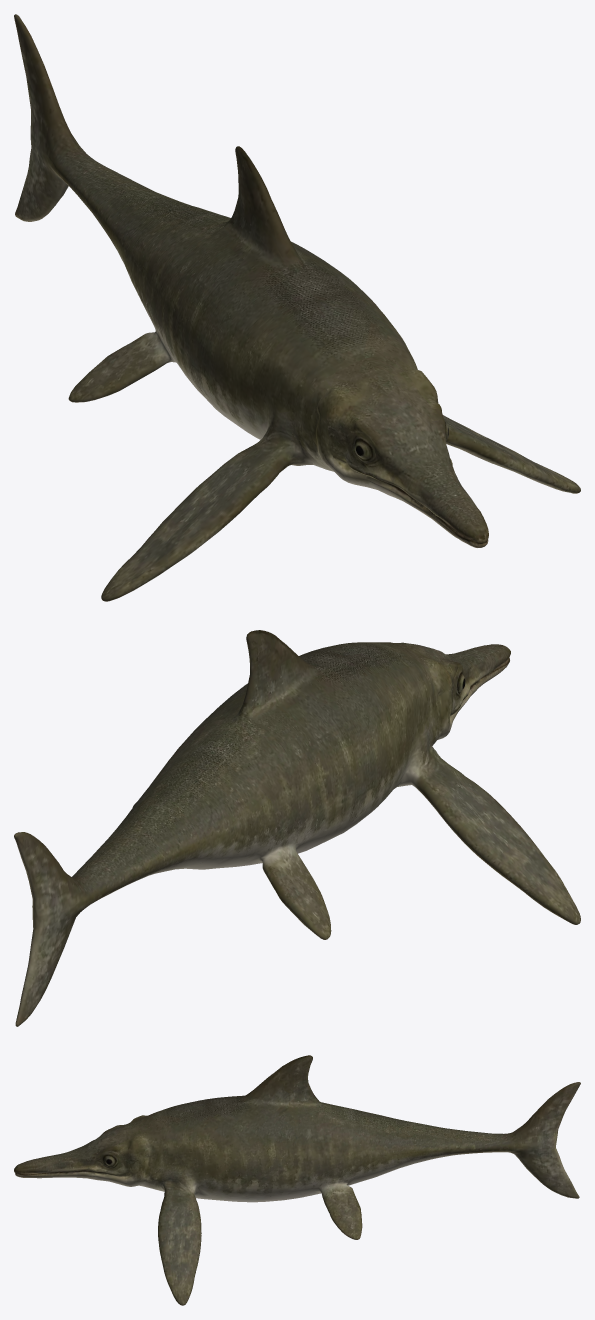
The model's file is ichthyosaurus.glb.
3 renders of one model, top to bottom at view 1: azimuth 30°, elevation 25°; view 2: azimuth 150°, elevation 25°; view 3: azimuth 270°, elevation 25°, orthographic. The views are drawn at different scales.
Visible parts, largest first — view 1: dino; view 2: dino; view 3: dino.
Part boxes in pixels (<box>): dino: <box>14,14,580,601</box>; dino: <box>14,630,580,1026</box>; dino: <box>14,1055,580,1305</box>.
Bounding box in the file's own units: 1.11 × 0.7229 × 2.
1 material, 1 textured.
